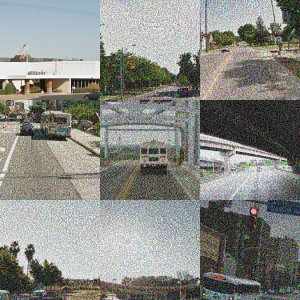公車: (203, 267, 259, 300), (134, 140, 173, 171), (38, 108, 75, 140)
高山或山丘: (103, 41, 187, 93)
